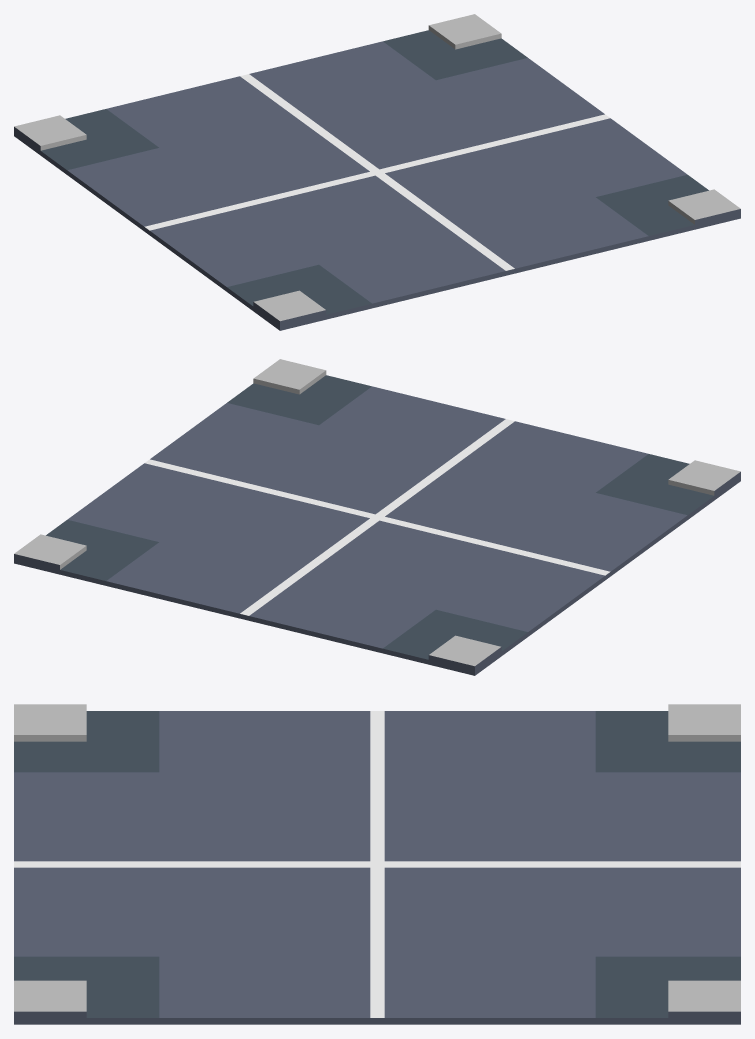
The model's file is SM_Road_Crossroad_Line.fbx.
The picture shows the model from 3 angles, top to bottom: view 1: azimuth 30°, elevation 25°; view 2: azimuth 150°, elevation 25°; view 3: azimuth 270°, elevation 25°; orthographic projection. The views are drawn at different scales.
Visible parts, largest first — view 1: SM_Road_Crossroad_Line; view 2: SM_Road_Crossroad_Line; view 3: SM_Road_Crossroad_Line.
Boxes of the visible parts, x1,y1,x2,y2 form: SM_Road_Crossroad_Line: [14, 14, 740, 330]; SM_Road_Crossroad_Line: [14, 359, 740, 675]; SM_Road_Crossroad_Line: [14, 704, 740, 1024].
Size of the model in its own units: 1000 by 20 by 1000.
